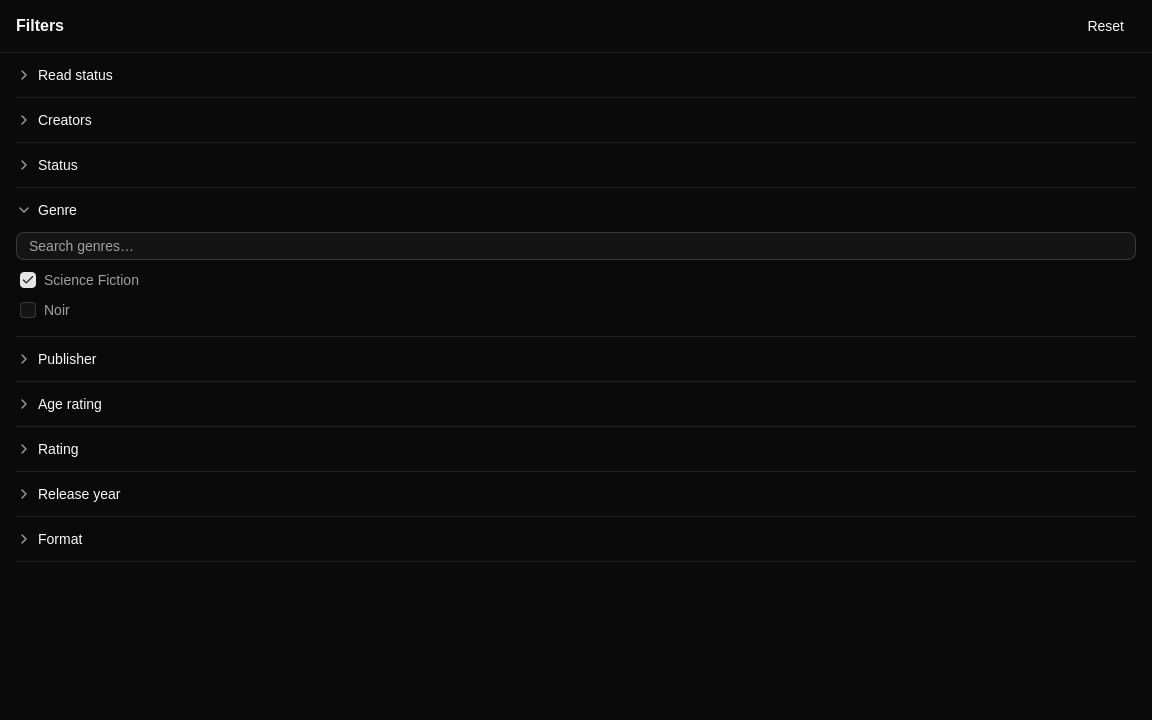
Test: FilterPanelInner › lets an explicit collapse override the active-selection auto-open
Click the button "Genre" at point(57, 210), box x1=16 y1=188 x2=1136 y2=232
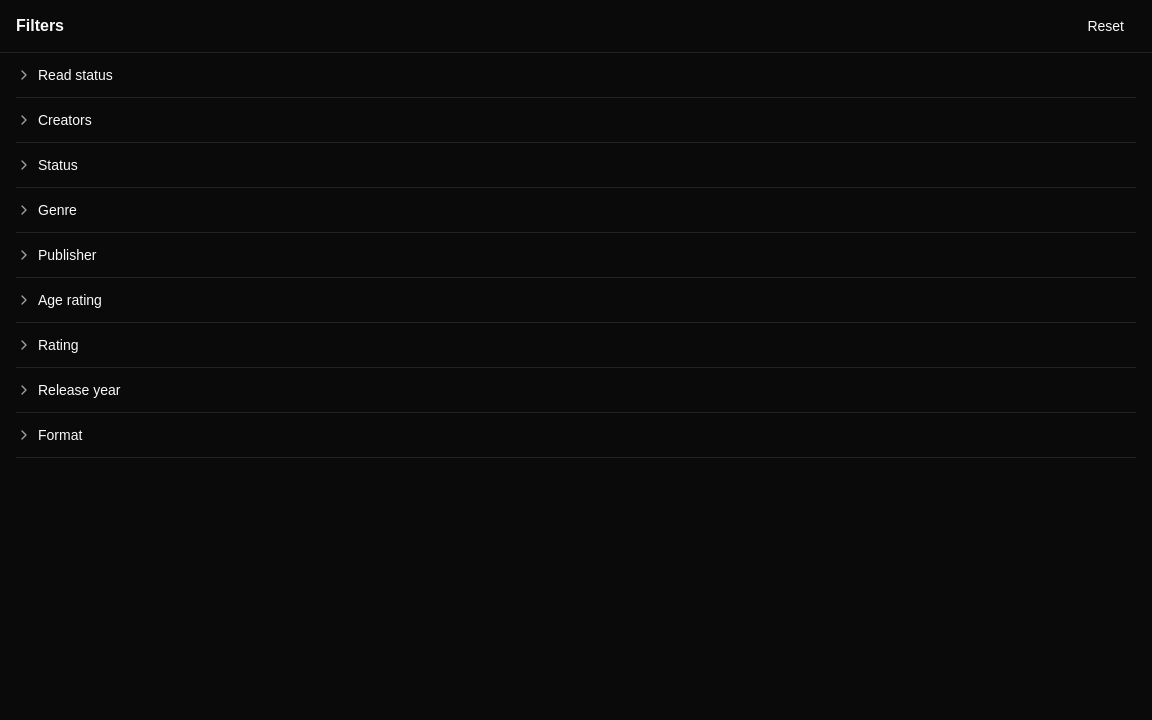
Result: the button "Genre" is collapsed at x1=16 y1=188 x2=1136 y2=232
Result: the button labelled "Science Fiction" is gone
